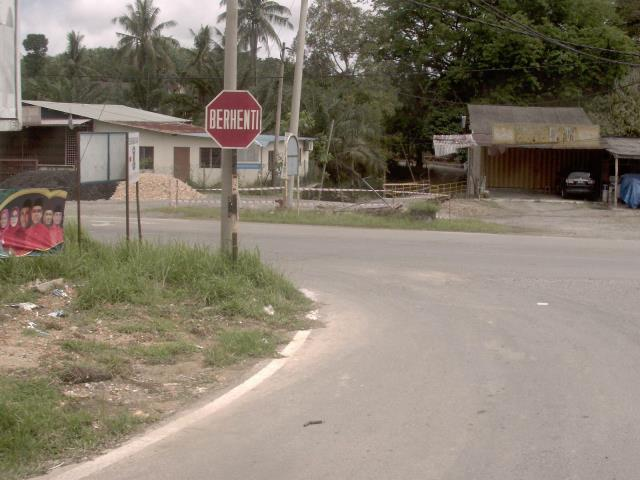traffic_sign: (200, 83, 268, 155)
